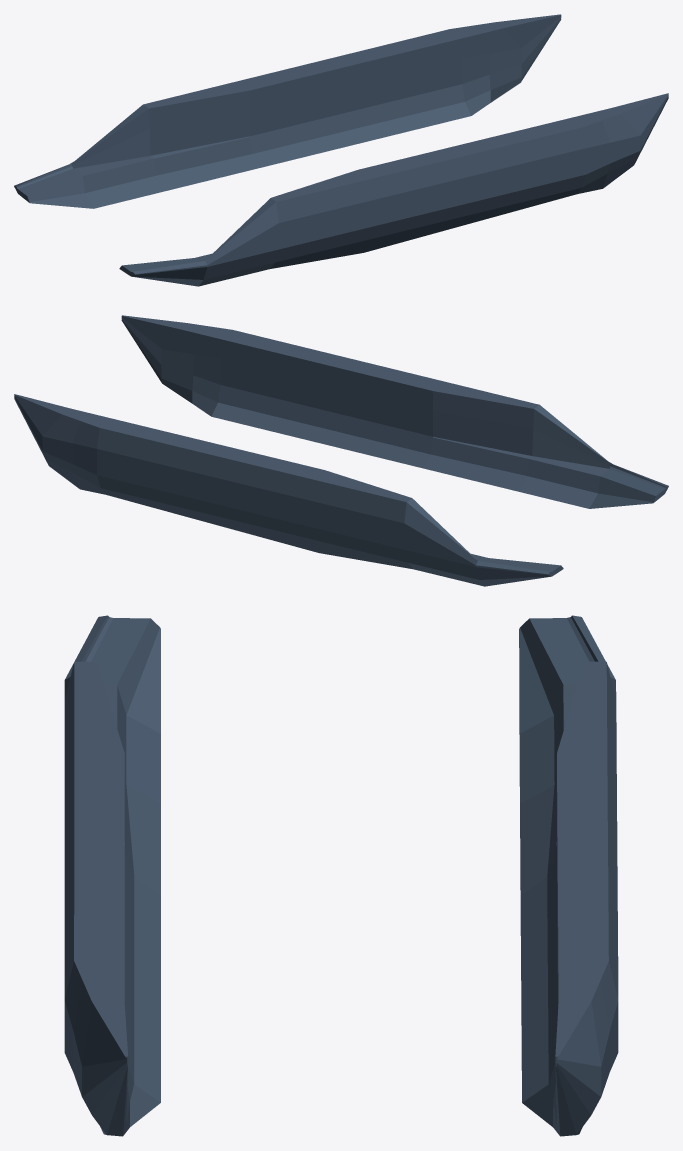
3 renders of one model, top to bottom at view 1: azimuth 30°, elevation 25°; view 2: azimuth 150°, elevation 25°; view 3: azimuth 270°, elevation 25°, orthographic. The views are drawn at different scales.
Visible parts, largest first — view 1: 立方体.003, 立方体.015; view 2: 立方体.015, 立方体.003; view 3: 立方体.003, 立方体.015.
Part boxes in pixels (x1,y1,x2,y2): 立方体.003: (14, 14, 561, 208); 立方体.015: (119, 93, 668, 286); 立方体.015: (121, 315, 668, 508); 立方体.003: (14, 394, 563, 586); 立方体.003: (519, 615, 618, 1136); 立方体.015: (64, 615, 160, 1136).
Bounding box in the file's own units: 8.26 × 1.15 × 3.67.
